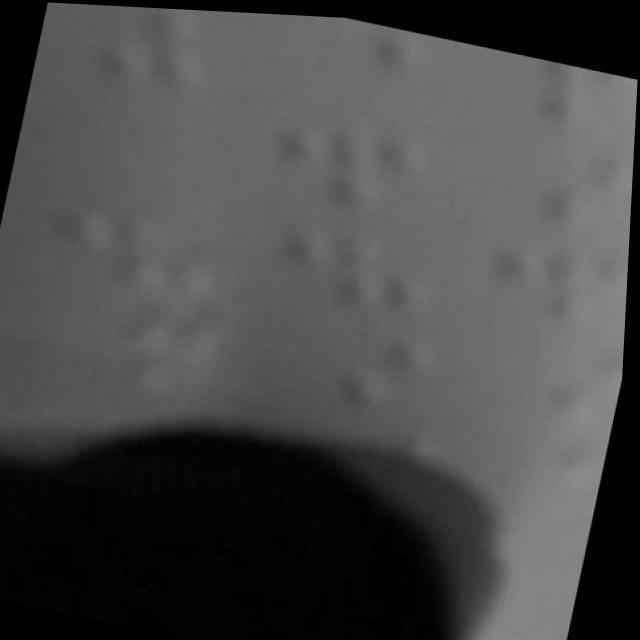braiile: (49, 200, 238, 314), (258, 109, 441, 222), (267, 217, 449, 324), (268, 11, 442, 114), (282, 317, 450, 422), (479, 226, 632, 339), (468, 41, 639, 141), (43, 2, 225, 92), (488, 128, 636, 238), (484, 324, 628, 428)
